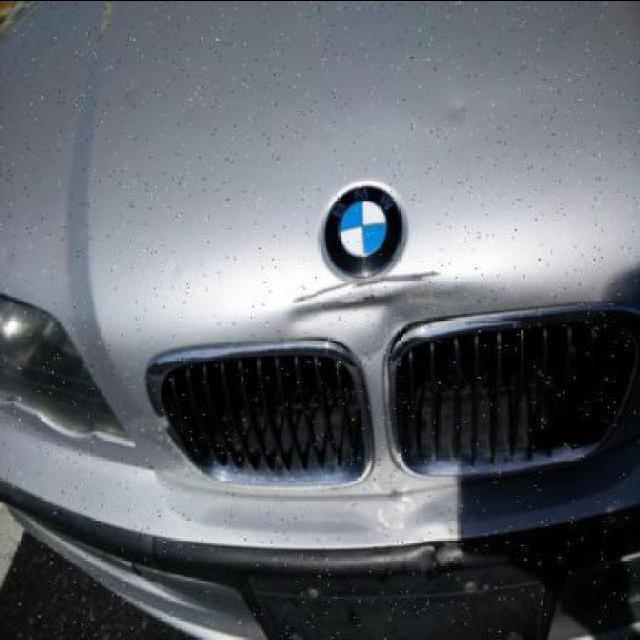bonnet-dent: (77, 0, 568, 374)
